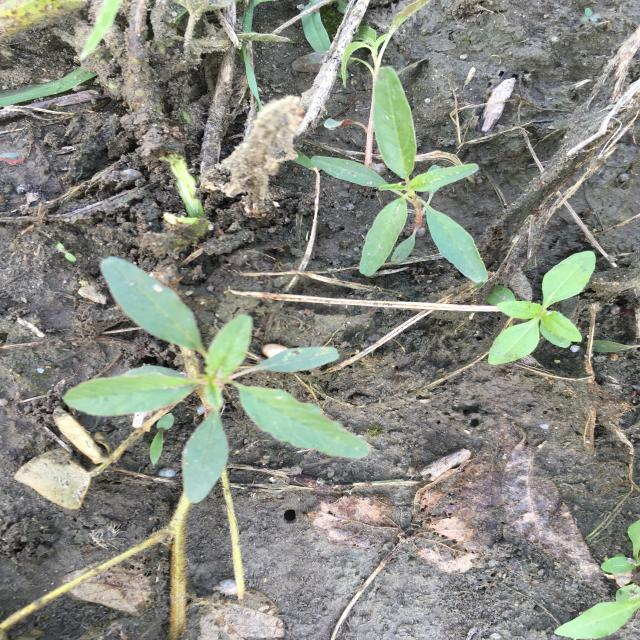Eclipta: (484, 249, 598, 366)
Waterhemp: (60, 254, 374, 506), (309, 66, 491, 285)
